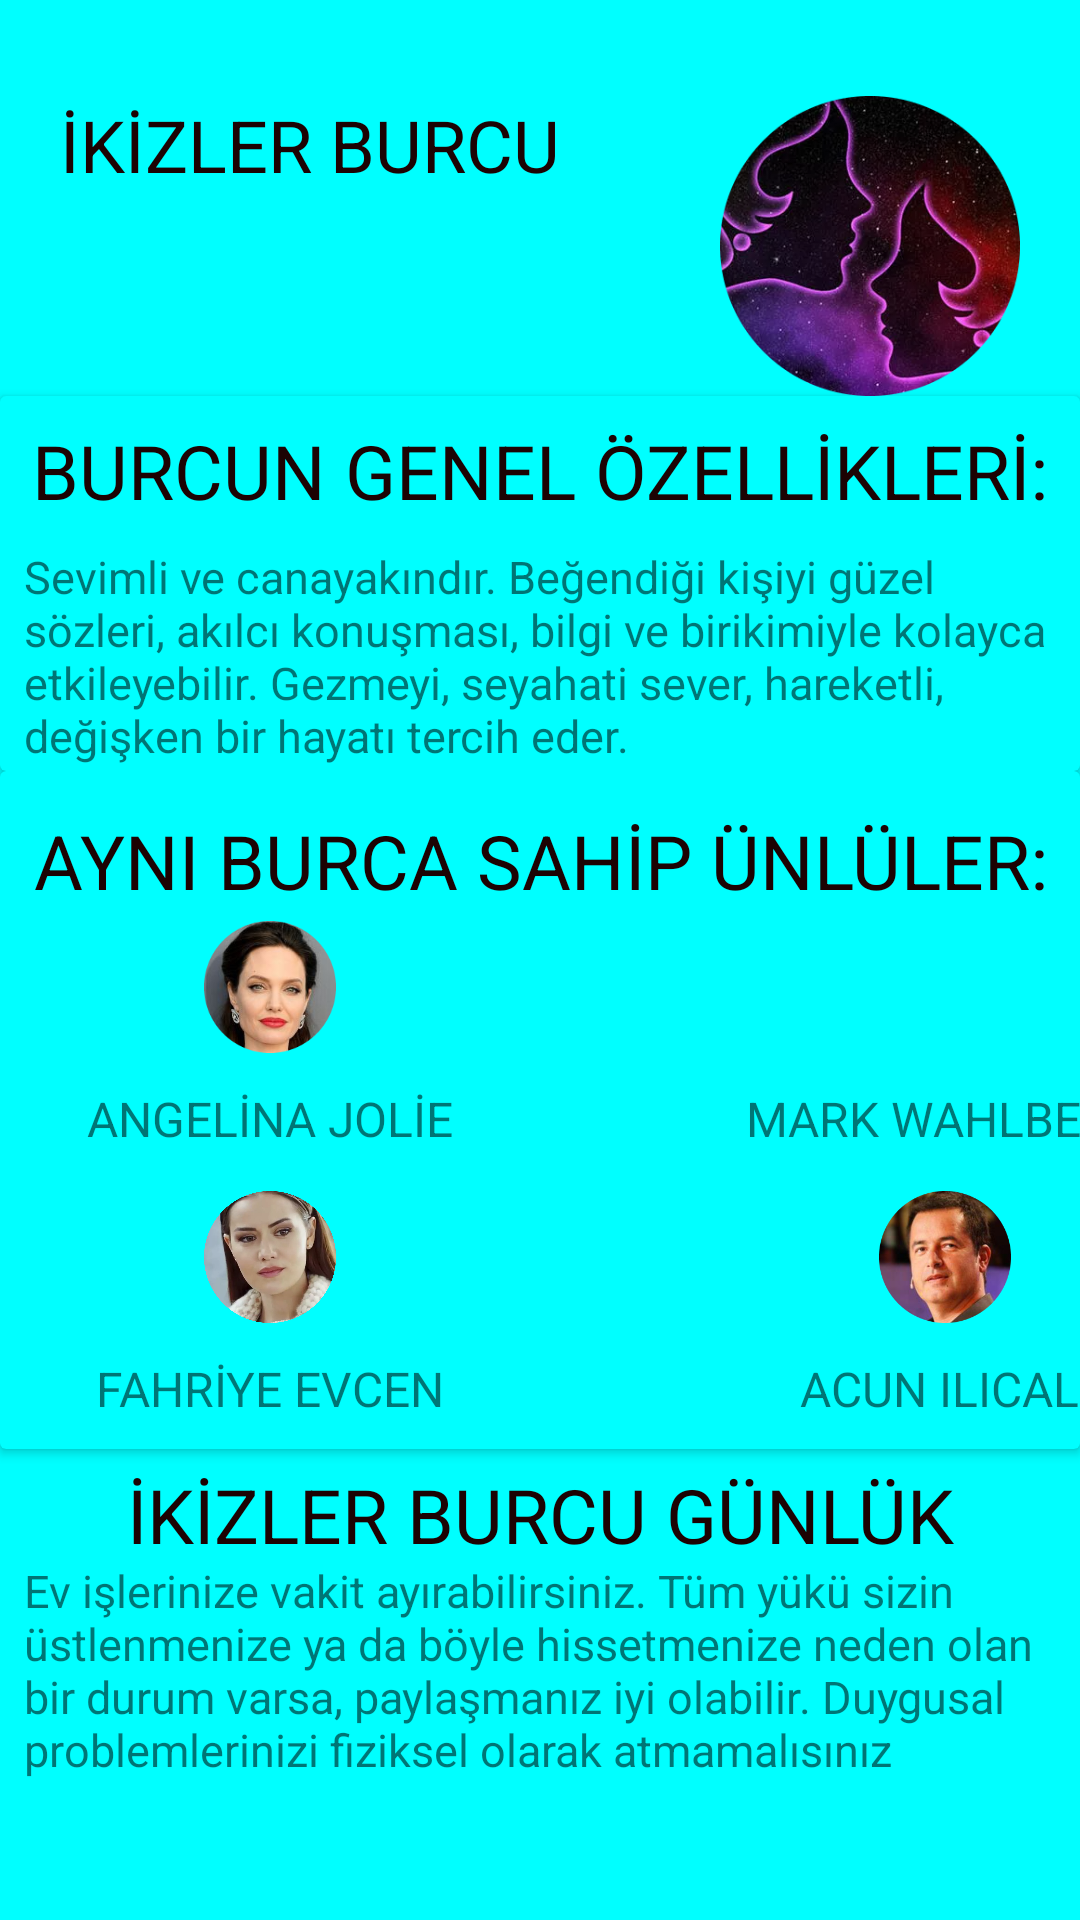

Where to tap for icons on this 1080x1920 app screen, as [x,y]:
ikizler: [870,246]
